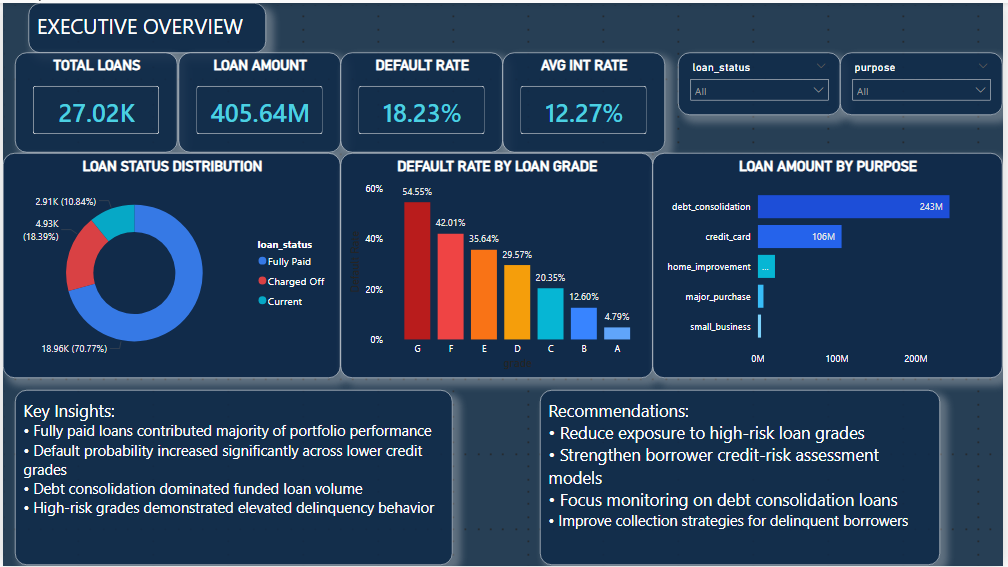

What the dashboard file says about the page in this screenshot:
{"tool":"powerbi","page":{"name":"Executive Overview","canvas":[1280,720],"ordinal":0},"visuals":[{"type":"textbox","box":[32,0,304,64],"z":0},{"type":"cardVisual","title":"TOTAL LOANS","fields":{"Data":["loans.Total Loans"]},"box":[16,64,208,128],"z":1000},{"type":"cardVisual","title":"LOAN AMOUNT","fields":{"Data":["loans.Total Loan Amount"]},"box":[224,64,208,128],"z":2000},{"type":"cardVisual","title":"DEFAULT RATE","fields":{"Data":["loans.Default Rate"]},"box":[432,64,208,128],"z":3000},{"type":"cardVisual","title":"AVG INT RATE","fields":{"Data":["loans.Avg Interest Rate"]},"box":[640,64,208,128],"z":4000},{"type":"donutChart","title":"LOAN  STATUS DISTRIBUTION","fields":{"Category":["loans.loan_status"],"Y":["CountNonNull(loans.loan_status)"]},"box":[0,192,432,288],"z":5000},{"type":"clusteredColumnChart","title":"DEFAULT RATE BY LOAN GRADE","fields":{"Category":["loans.grade"],"Y":["loans.Default Rate"]},"box":[432,192,400,288],"z":6000},{"type":"barChart","title":"LOAN AMOUNT BY PURPOSE","fields":{"Category":["loans.purpose"],"Y":["Sum(loans.loan_amnt)"]},"box":[832,192,448,288],"z":7000},{"type":"textbox","box":[16,496,560,224],"z":8000},{"type":"textbox","box":[688,496,512,224],"z":9000},{"type":"slicer","fields":{"Values":["loans.loan_status"]},"box":[864,64,208,80],"z":10000},{"type":"slicer","fields":{"Values":["loans.purpose"]},"box":[1072,64,208,80],"z":11000}]}

Visuals, with their boxes in screenshot pixels (x1, y1, x2, y2), scaled from the page's 1280x720 canvas onto the 1008x567 screenshot:
textbox: bbox=[25, 0, 265, 50]
"TOTAL LOANS" cardVisual: bbox=[13, 50, 176, 151]
"LOAN AMOUNT" cardVisual: bbox=[176, 50, 340, 151]
"DEFAULT RATE" cardVisual: bbox=[340, 50, 504, 151]
"AVG INT RATE" cardVisual: bbox=[504, 50, 668, 151]
"LOAN  STATUS DISTRIBUTION" donutChart: bbox=[0, 151, 340, 378]
"DEFAULT RATE BY LOAN GRADE" clusteredColumnChart: bbox=[340, 151, 655, 378]
"LOAN AMOUNT BY PURPOSE" barChart: bbox=[655, 151, 1007, 378]
textbox: bbox=[13, 391, 454, 566]
textbox: bbox=[542, 391, 945, 566]
slicer - loans.loan_status: bbox=[680, 50, 844, 113]
slicer - loans.purpose: bbox=[844, 50, 1007, 113]
